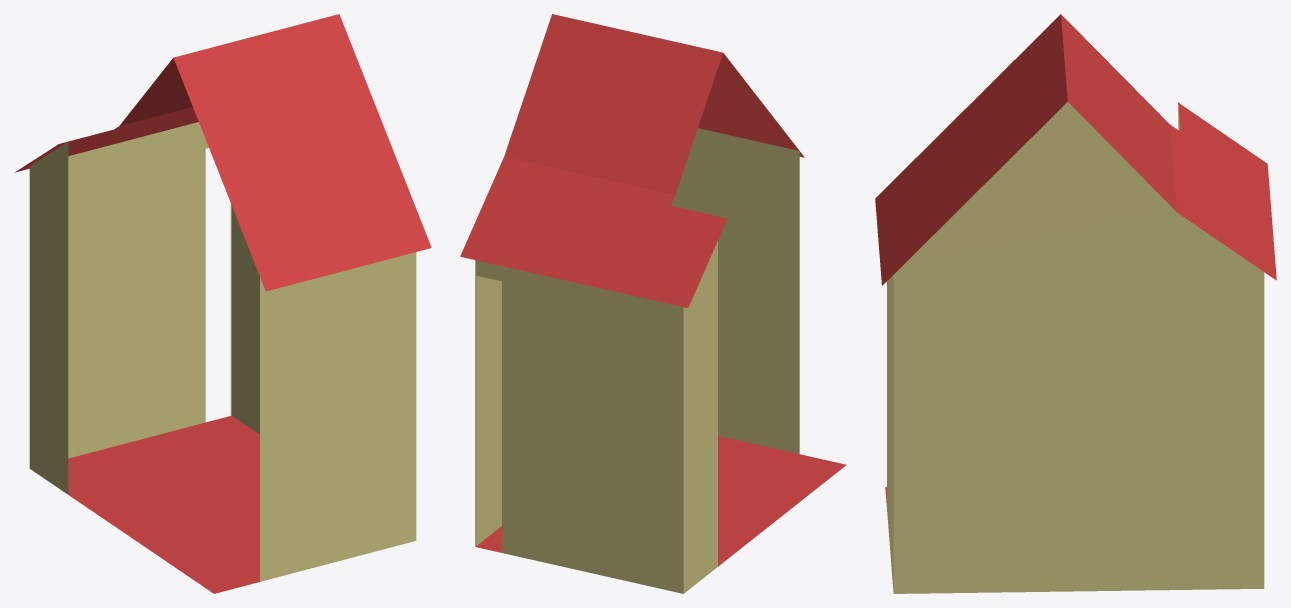
The picture shows the model from 3 angles, left to right: view 1: azimuth 30°, elevation 25°; view 2: azimuth 150°, elevation 25°; view 3: azimuth 270°, elevation 25°; orthographic projection. The views are drawn at different scales.
Size of the model in its own units: 6.01 by 8.33 by 11.33.
